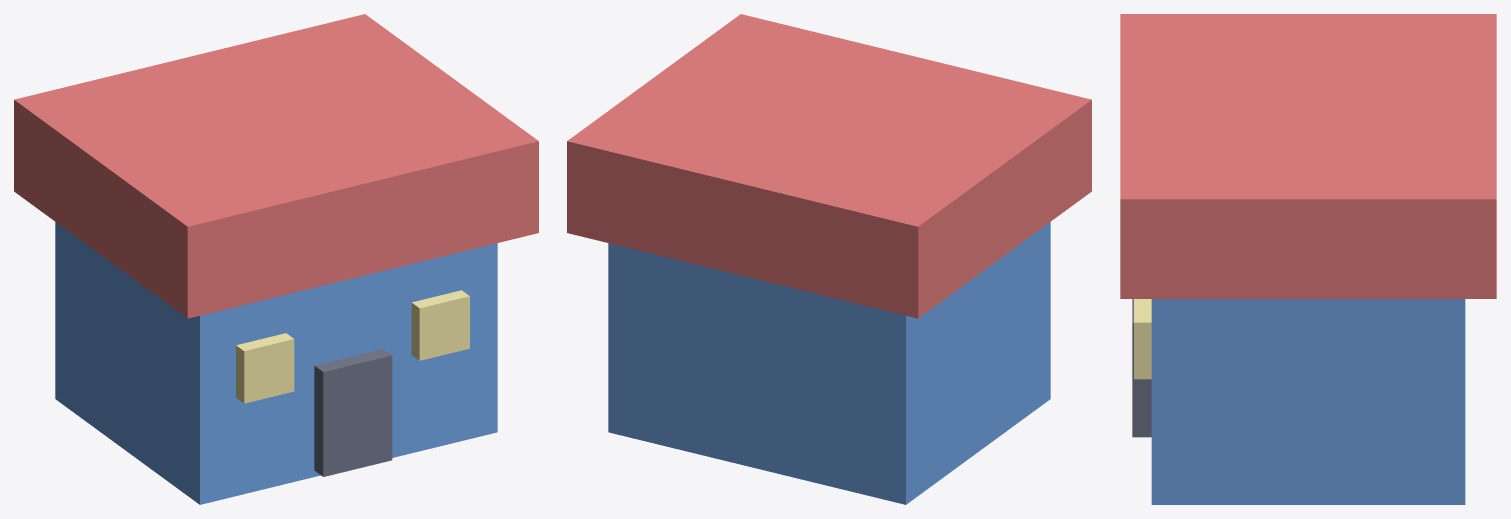
The model's file is house_lv1.gltf.
The picture shows the model from 3 angles, left to right: view 1: azimuth 30°, elevation 25°; view 2: azimuth 150°, elevation 25°; view 3: azimuth 270°, elevation 25°; orthographic projection. The views are drawn at different scales.
Visible parts, largest first — view 1: Roof, Walls, Door, WinL, WinR; view 2: Roof, Walls; view 3: Roof, Walls, WinR, Door.
Part boxes in pixels (x1,y1,x2,y2): Roof: (14, 14, 538, 318); Walls: (55, 222, 497, 504); Door: (314, 348, 392, 476); WinL: (236, 333, 294, 403); WinR: (411, 290, 469, 360); Roof: (567, 14, 1091, 318); Walls: (608, 222, 1050, 504); Roof: (1120, 14, 1496, 298); Walls: (1151, 299, 1465, 504); WinR: (1134, 299, 1151, 379); Door: (1132, 299, 1151, 437).
Bounding box in the file's own units: 1.12 × 0.9 × 0.96.
